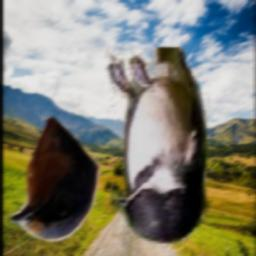Swallow: (105, 48, 210, 250), (8, 115, 101, 242)
